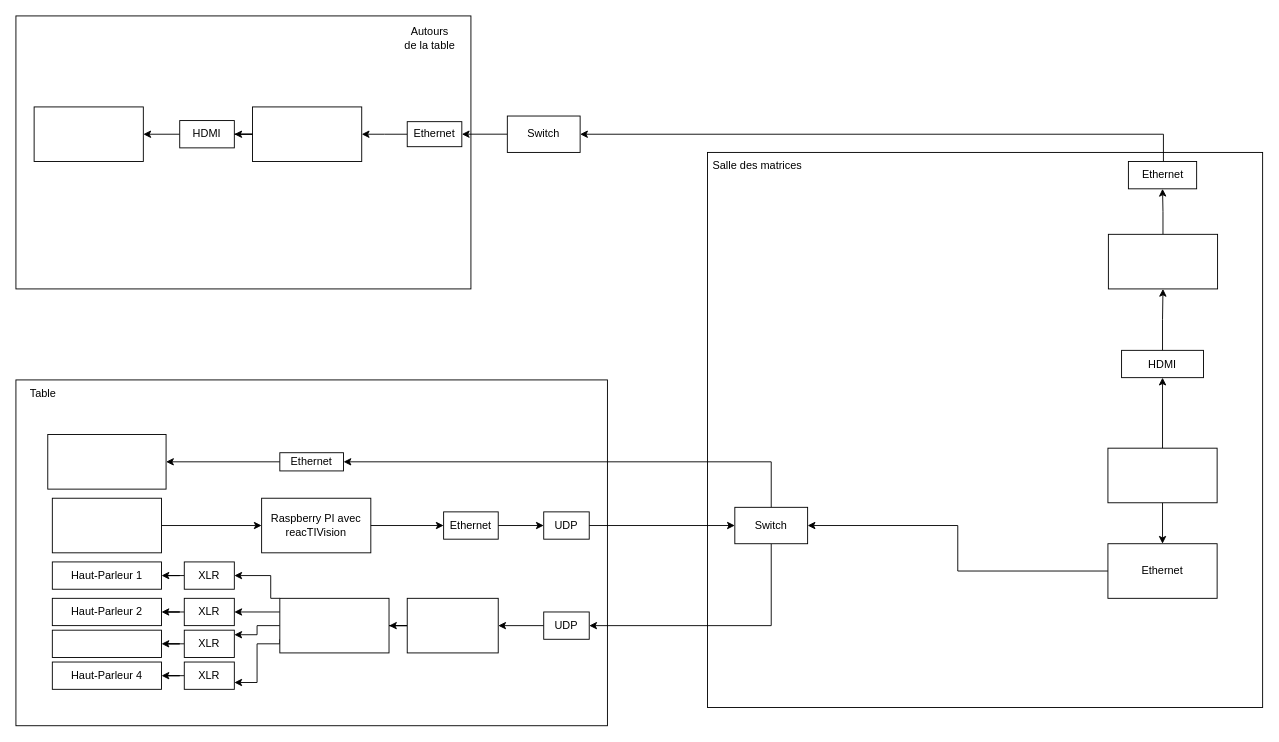
Some shapes in this 1279 by 742 pixel diagram are drawn without their labels. Here are the shapes that lost their labels. From the top down, the box of each, then its label:
(33, 106, 143, 162): Projo 1
(252, 106, 362, 162): Receiver HDMI
(1107, 233, 1218, 289): Sender HDMI
(47, 434, 166, 489): Projecteur Short-Throw
(1107, 447, 1217, 503): Ordinateur Avec Max, Unity, Madmapper et OBS
(51, 497, 162, 553): Caméra
(51, 629, 162, 657): Haut-Parleur 3
(279, 597, 389, 653): Carte son
(406, 597, 498, 653): Raspberry PI avec SonoBus
